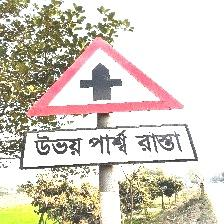Crossroad: (22, 37, 196, 167)
